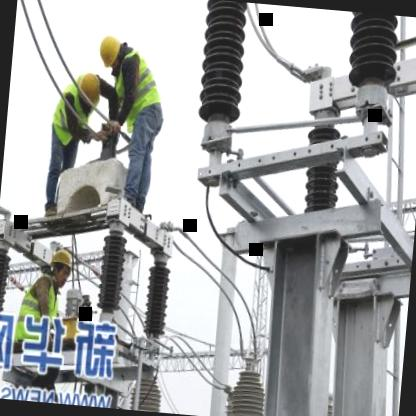helmet: (46, 244, 78, 286), (94, 30, 126, 72), (75, 70, 101, 106)
